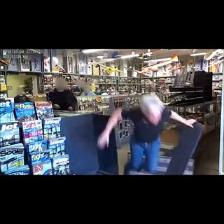person: (98, 96, 195, 172), (49, 77, 76, 110), (77, 80, 95, 95), (14, 88, 28, 102)
